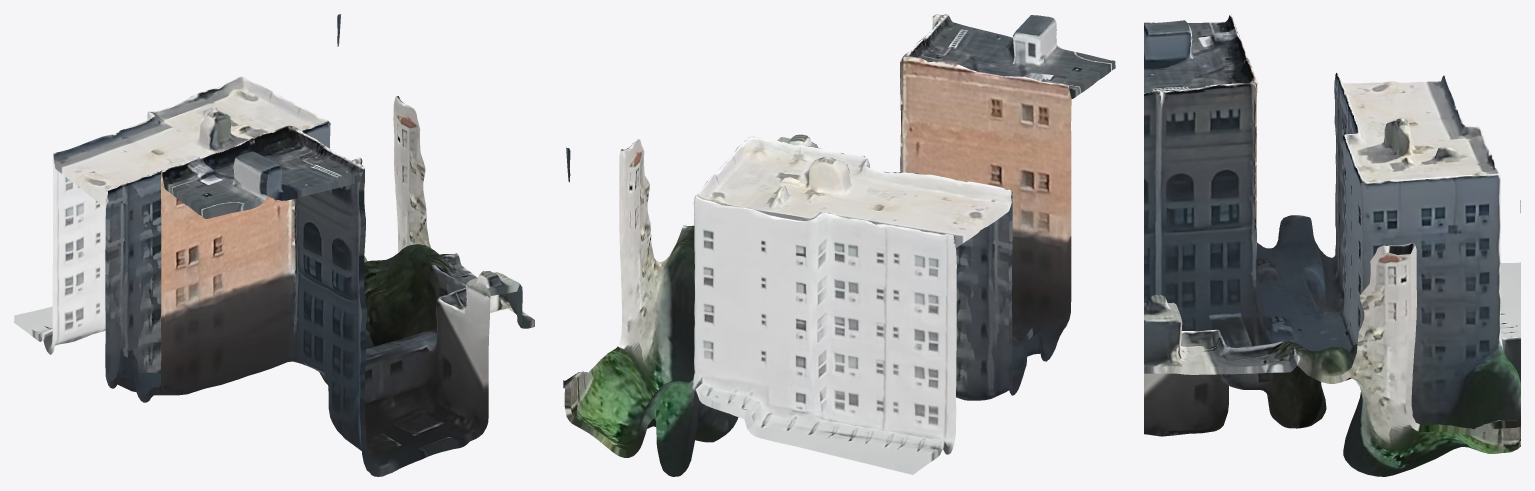
Rendered from z20-167745-405242-h0-yup-uvflip-v3-world.glb.
3 renders of one model, left to right at view 1: azimuth 30°, elevation 25°; view 2: azimuth 150°, elevation 25°; view 3: azimuth 270°, elevation 25°, orthographic. The views are drawn at different scales.
Bounding box in the file's own units: 30.2 × 31.36 × 30.32.
Materials: 1 (1 with a texture image).
